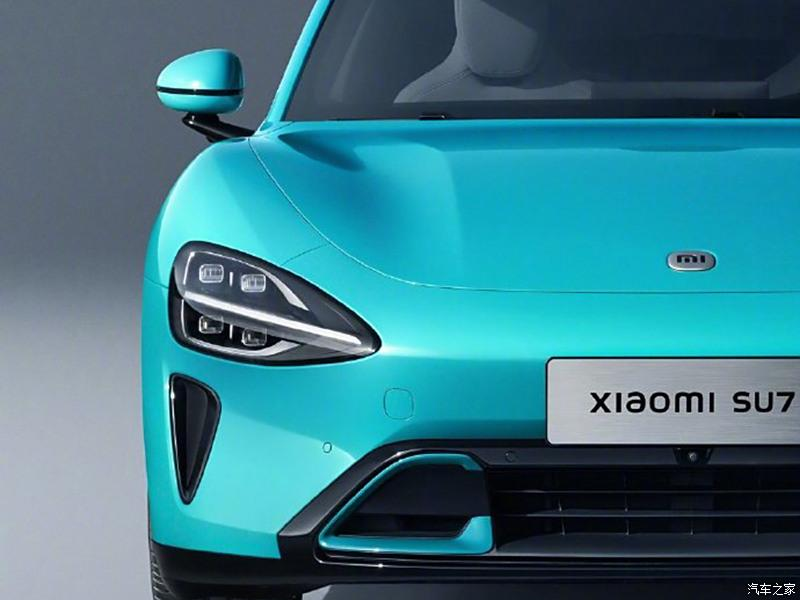XIAOMI: (667, 250, 716, 271)
